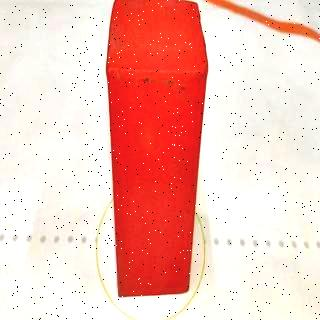redbox: (106, 0, 209, 299)
